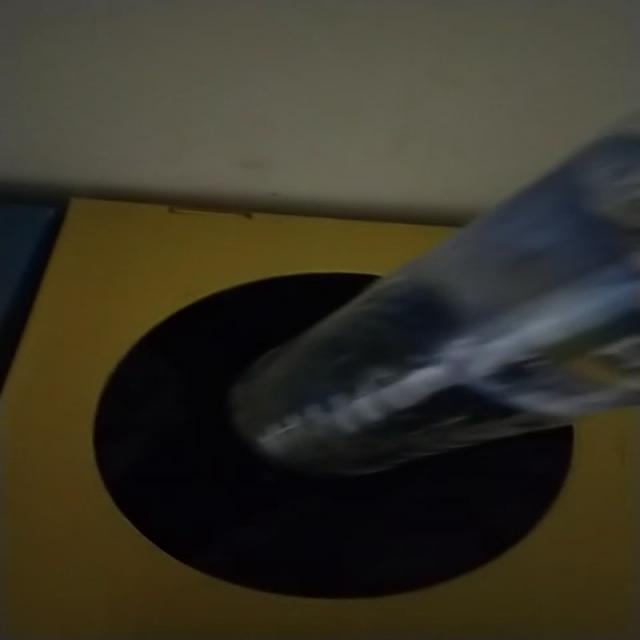plastic: (232, 135, 639, 475)
